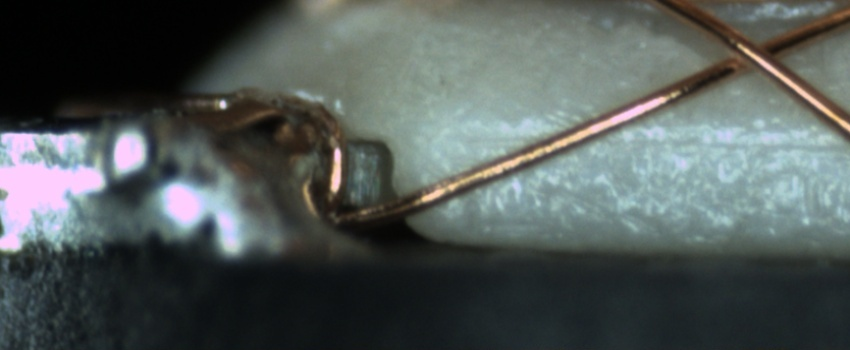CL: (712, 24, 801, 86)
DL: (436, 107, 850, 178)
TE: (174, 85, 356, 199)
